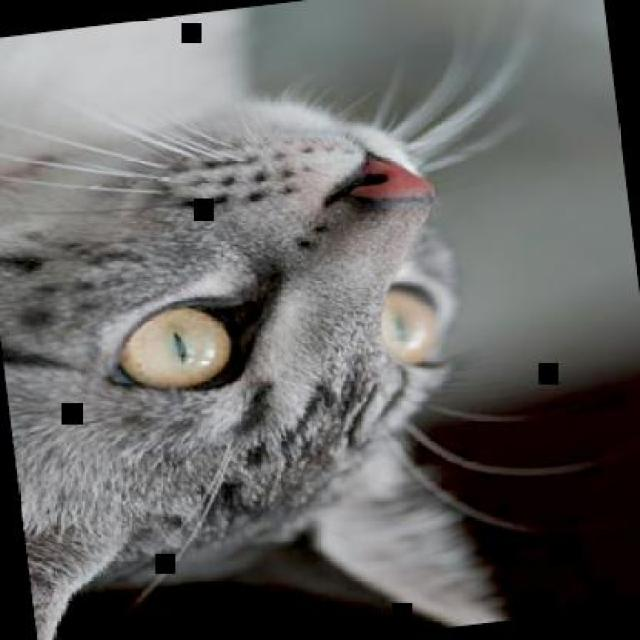cat: (0, 0, 514, 638)
